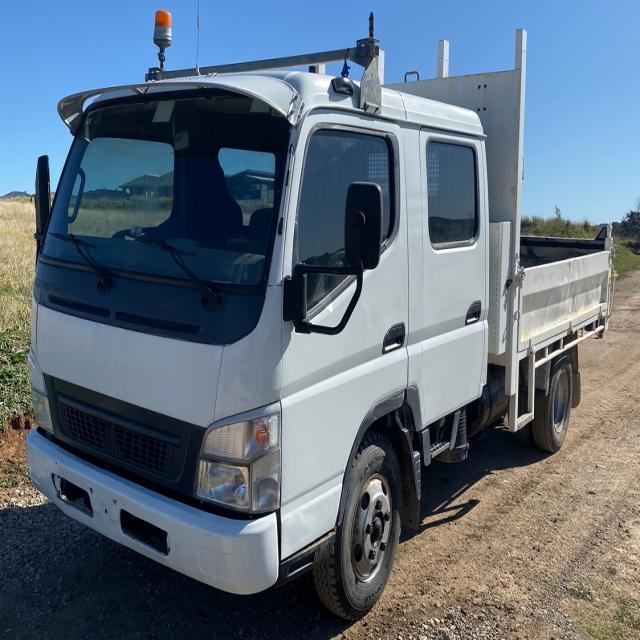truck: (27, 11, 620, 611)
